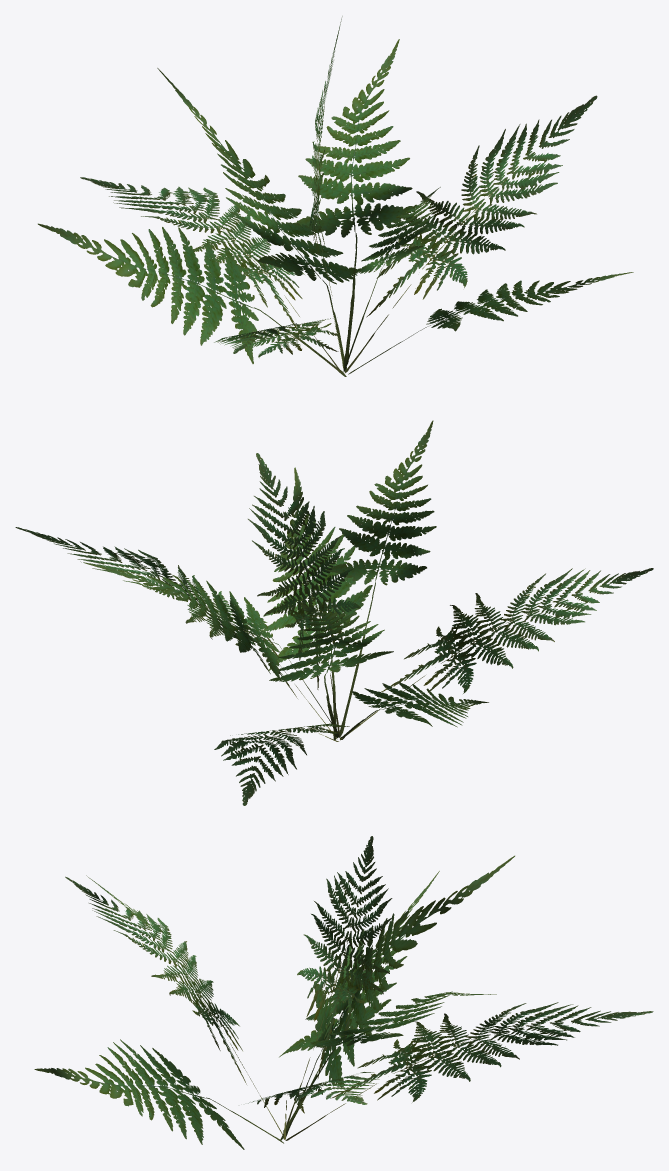
Rendered from obj__fern3.obj.
3 renders of one model, top to bottom at view 1: azimuth 30°, elevation 25°; view 2: azimuth 150°, elevation 25°; view 3: azimuth 270°, elevation 25°, orthographic. The views are drawn at different scales.
Parts seen in each view (by area): view 1: fern3.tga; view 2: fern3.tga; view 3: fern3.tga.
Part boxes in pixels (x1,y1,x2,y2): fern3.tga: [38, 16, 633, 376]; fern3.tga: [15, 420, 653, 805]; fern3.tga: [34, 836, 653, 1149].
Bounding box in the file's own units: 30.86 × 17.42 × 30.94.
Materials: 1 (1 with a texture image).
